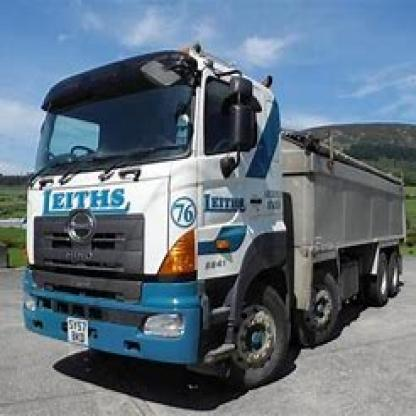dump_truck: (19, 52, 411, 382)
